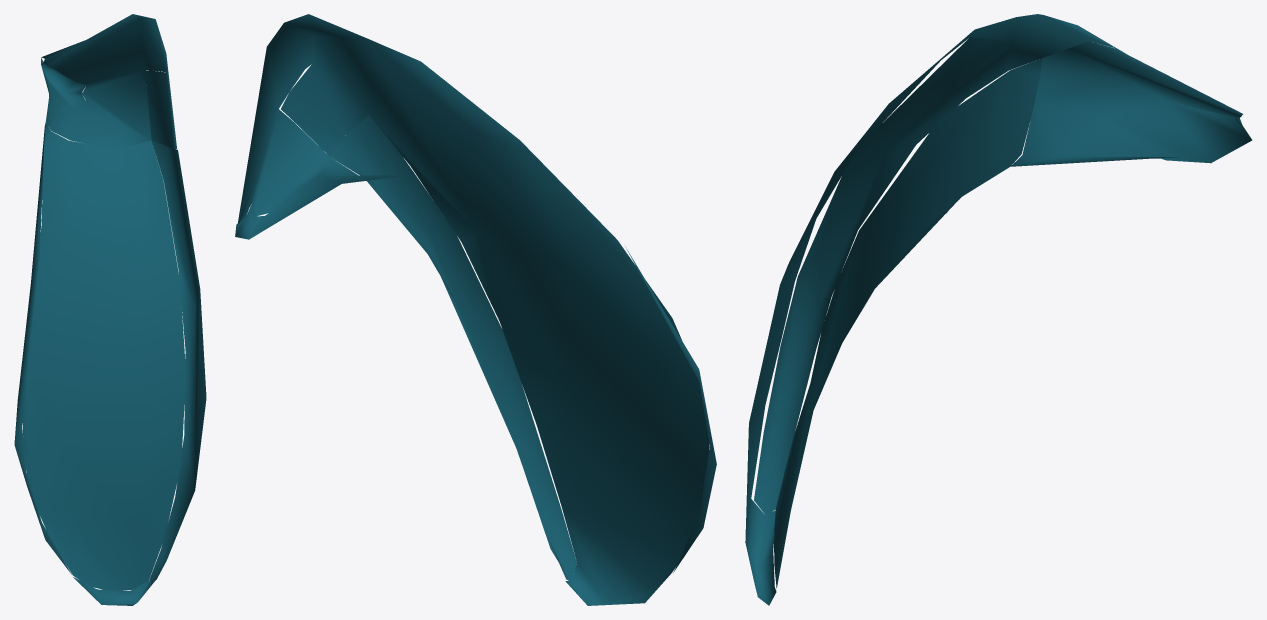
The model's file is left-wing.glb.
3 renders of one model, left to right at view 1: azimuth 30°, elevation 25°; view 2: azimuth 150°, elevation 25°; view 3: azimuth 270°, elevation 25°, orthographic. The views are drawn at different scales.
Visible parts, largest first — view 1: Cube.004; view 2: Cube.004; view 3: Cube.004.
Part boxes in pixels (x1,y1,x2,y2): Cube.004: (14,14,206,605); Cube.004: (235,14,716,605); Cube.004: (745,14,1252,605).
Bounding box in the file's own units: 0.1098 × 0.2232 × 0.1565.
